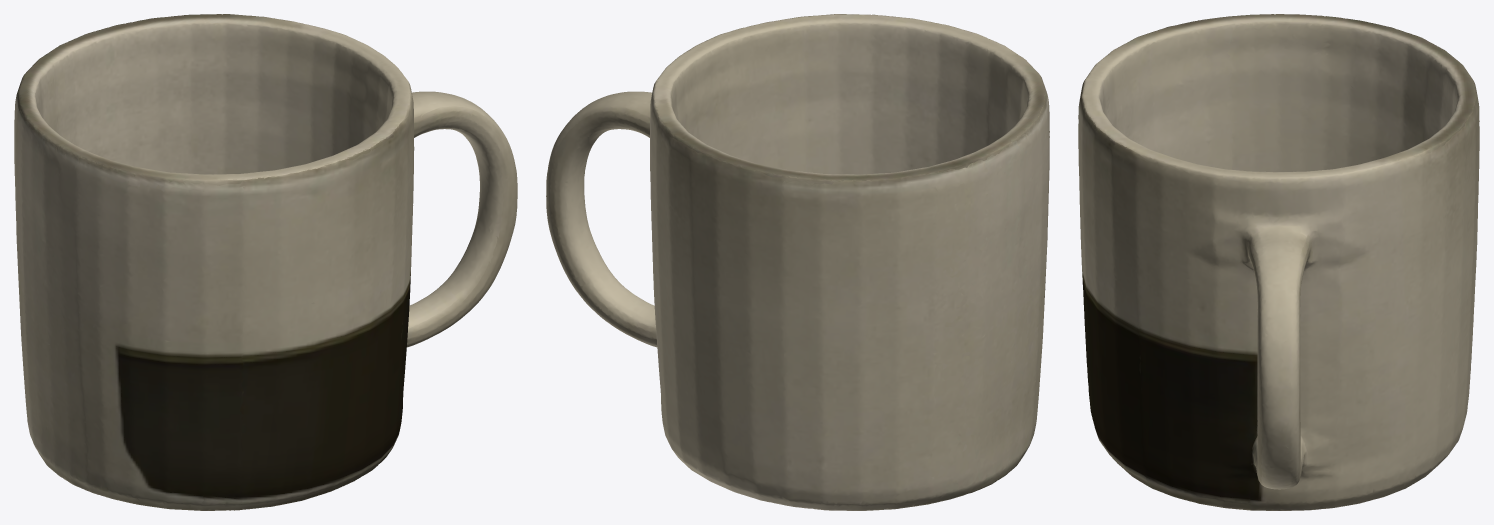
Rendered from coffee_mug.glb.
The picture shows the model from 3 angles, left to right: view 1: azimuth 30°, elevation 25°; view 2: azimuth 150°, elevation 25°; view 3: azimuth 270°, elevation 25°; orthographic projection.
Visible parts, largest first — view 1: world; view 2: world; view 3: world.
Boxes of the visible parts, bbox=[...] form: world: bbox=[14, 14, 517, 510]; world: bbox=[546, 14, 1049, 510]; world: bbox=[1078, 14, 1479, 510].
Bounding box in the file's own units: 1 × 0.7023 × 0.7407.
1 material, 1 textured.
